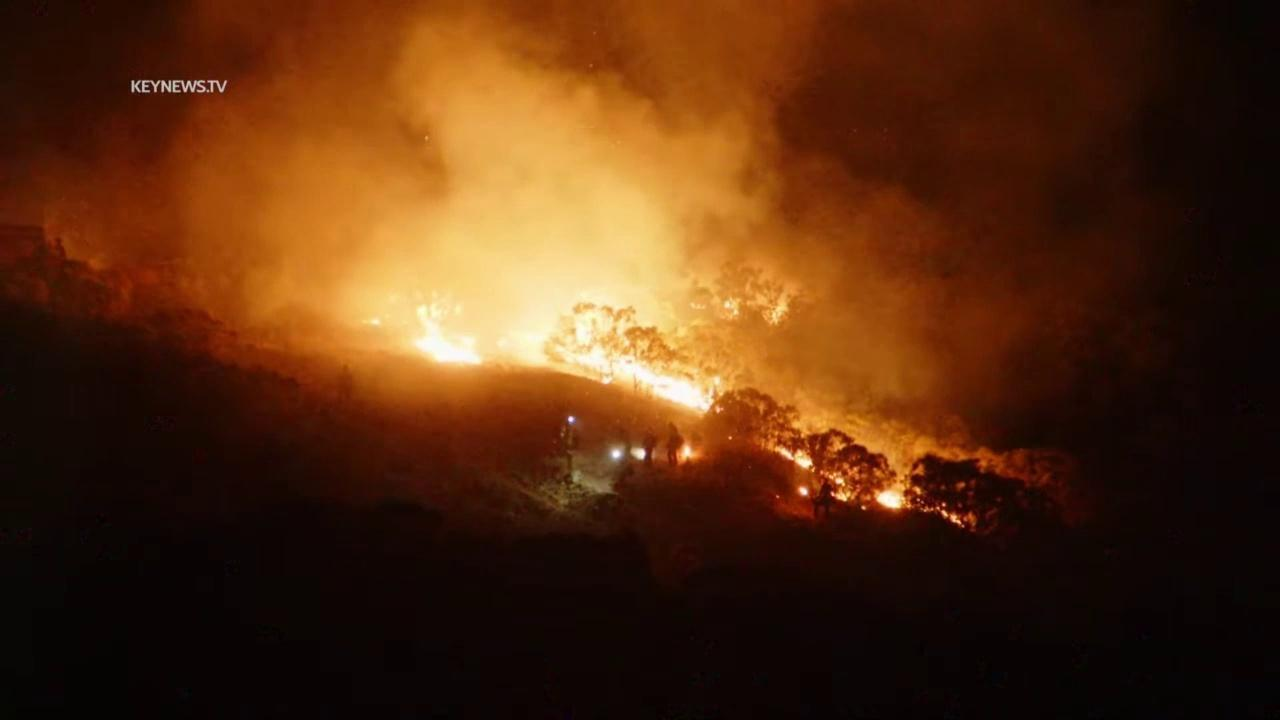fire: (497, 297, 725, 416), (410, 292, 487, 370), (767, 439, 848, 486), (934, 500, 966, 529), (874, 489, 913, 510), (764, 300, 792, 327), (676, 438, 697, 465), (829, 487, 851, 501), (796, 485, 810, 497)
smoke: (0, 0, 1200, 552)
